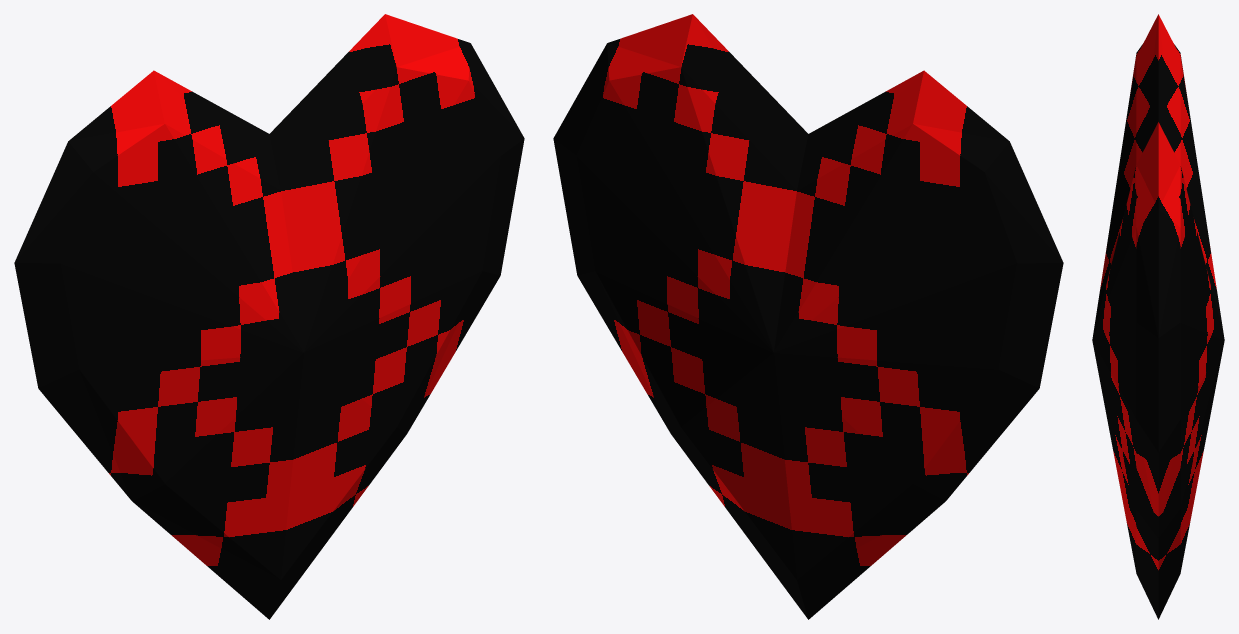
File: heart.obj
3 renders of one model, left to right at view 1: azimuth 30°, elevation 25°; view 2: azimuth 150°, elevation 25°; view 3: azimuth 270°, elevation 25°, orthographic. The views are drawn at different scales.
Size of the model in its own units: 121 by 131 by 28.56.
